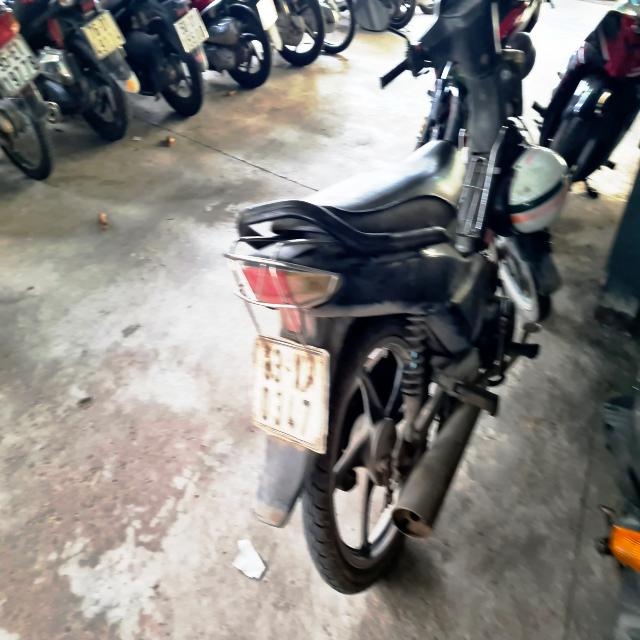license_plate: (249, 336, 328, 449)
